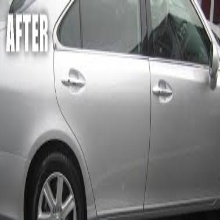no damage: (1, 1, 220, 220)
